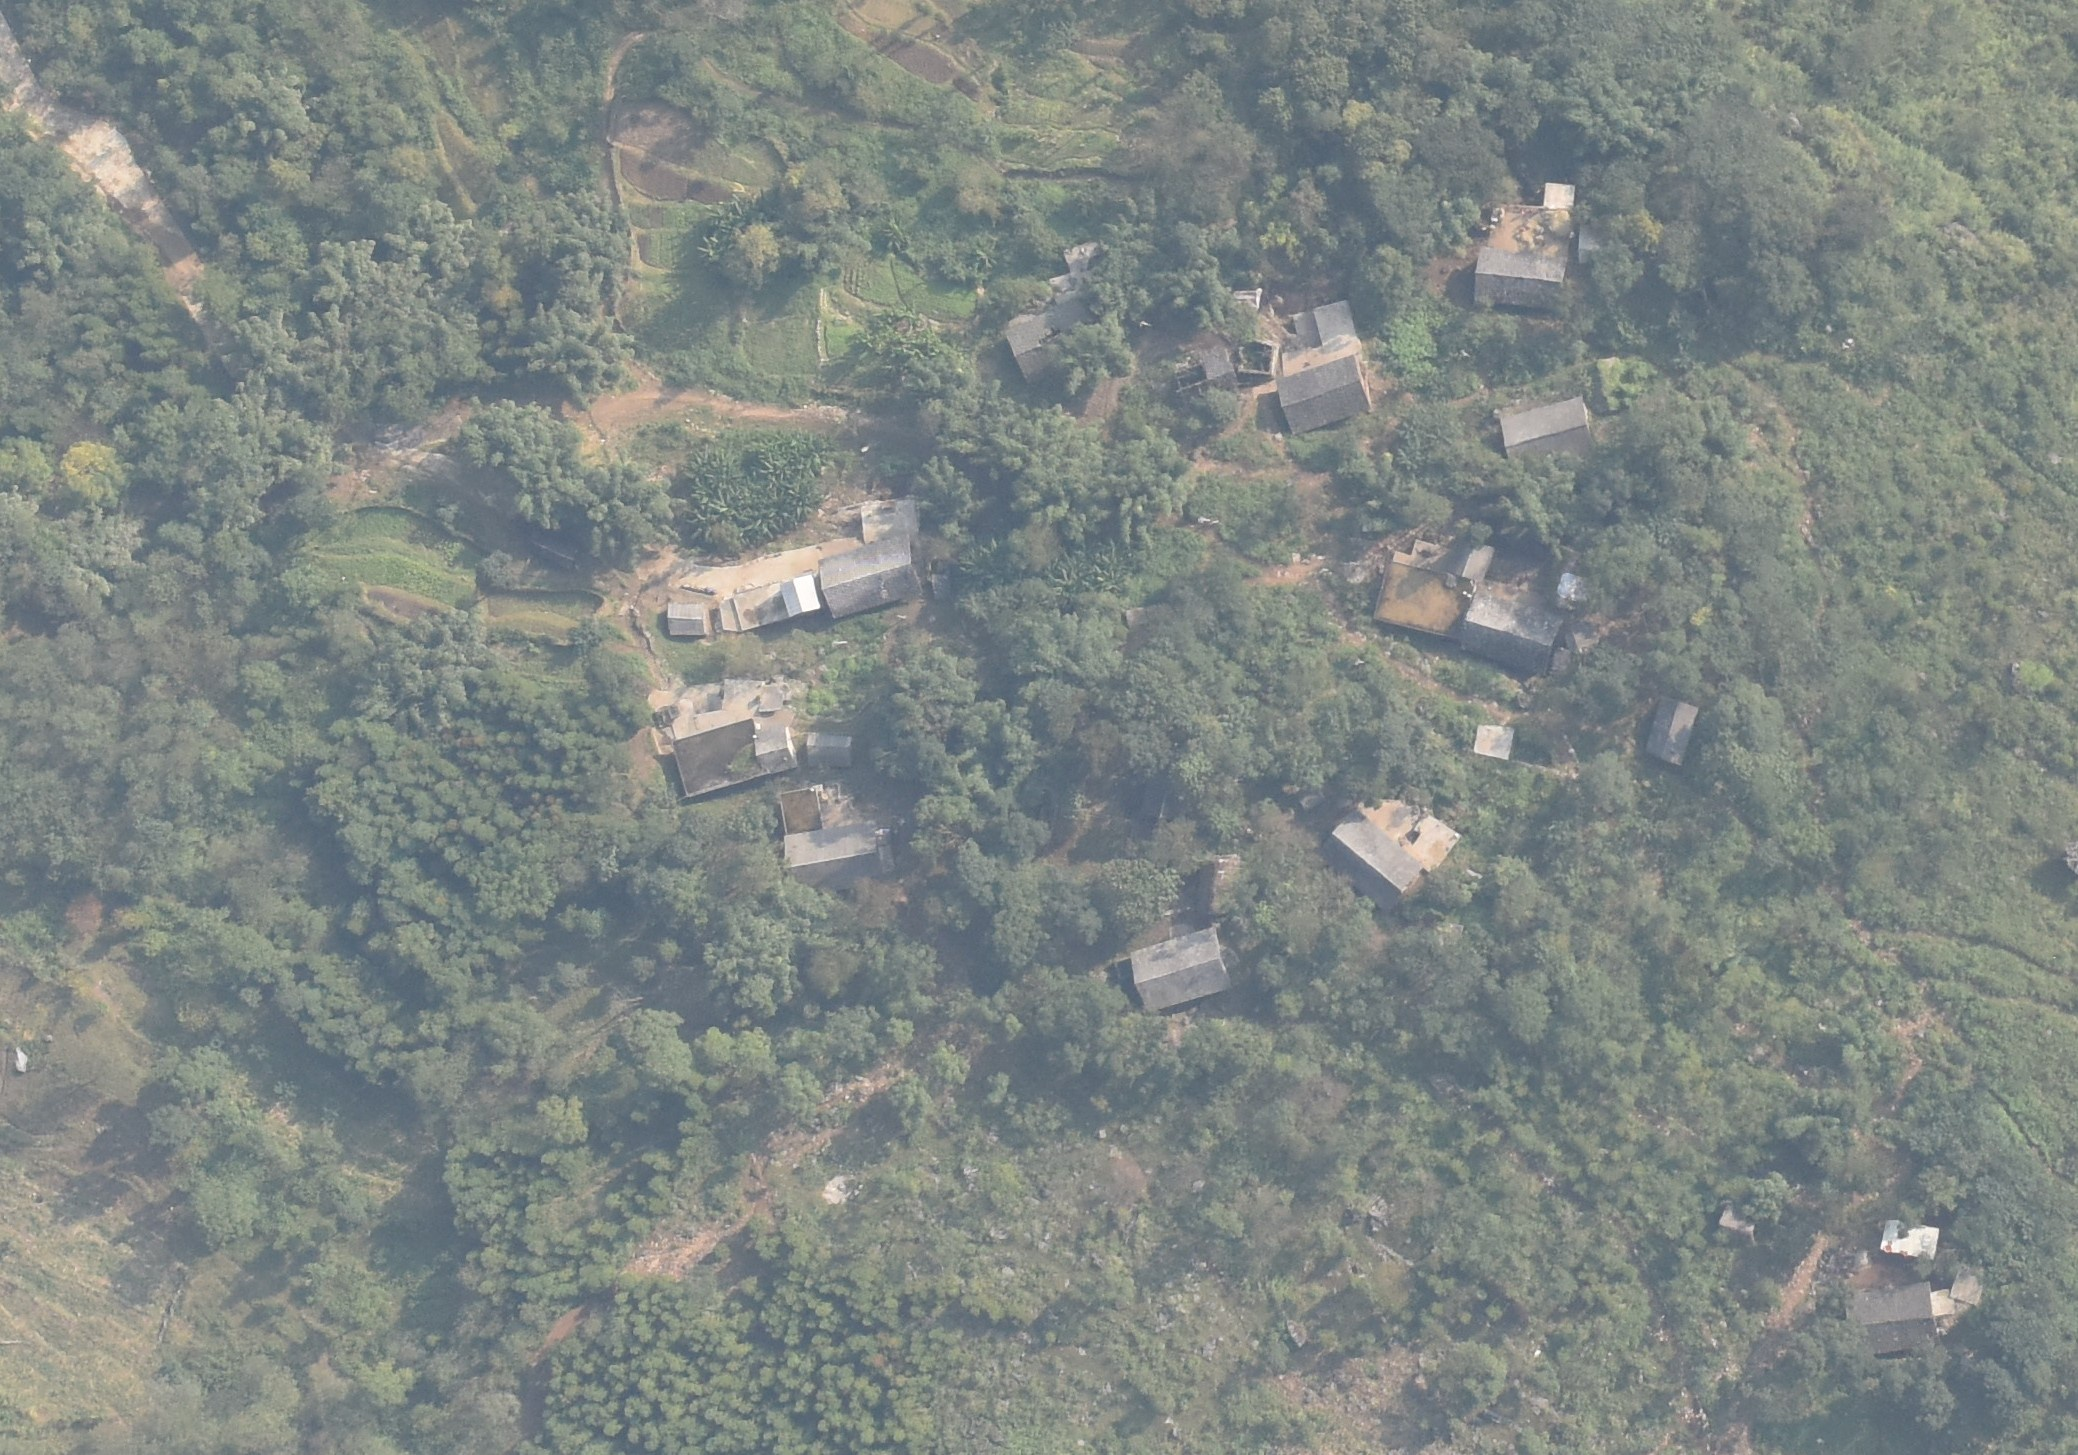building: (1450, 581, 1611, 689), (996, 283, 1138, 390), (1322, 795, 1446, 907), (1113, 919, 1243, 1017), (657, 717, 801, 799), (1364, 556, 1480, 656), (1270, 351, 1390, 441), (774, 814, 902, 897), (1833, 1280, 1945, 1367), (1492, 393, 1603, 472), (1478, 174, 1584, 254), (820, 543, 924, 621), (1464, 242, 1570, 318), (1634, 686, 1709, 780), (1187, 845, 1243, 932), (1874, 1209, 1950, 1269), (769, 787, 840, 840), (1443, 528, 1505, 588), (804, 725, 864, 774), (1945, 1261, 1994, 1310), (662, 599, 711, 641), (1472, 716, 1514, 760)
prefabricated-house: (775, 570, 824, 622)
